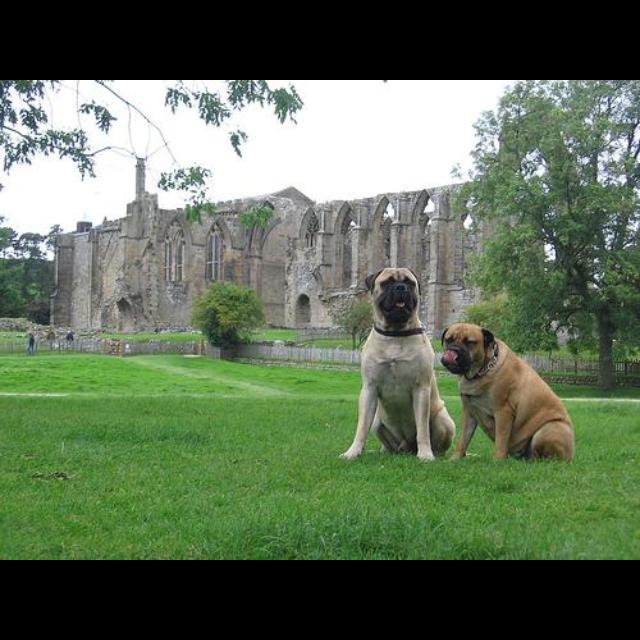bullmastiff: (339, 268, 455, 463), (440, 322, 574, 462)
